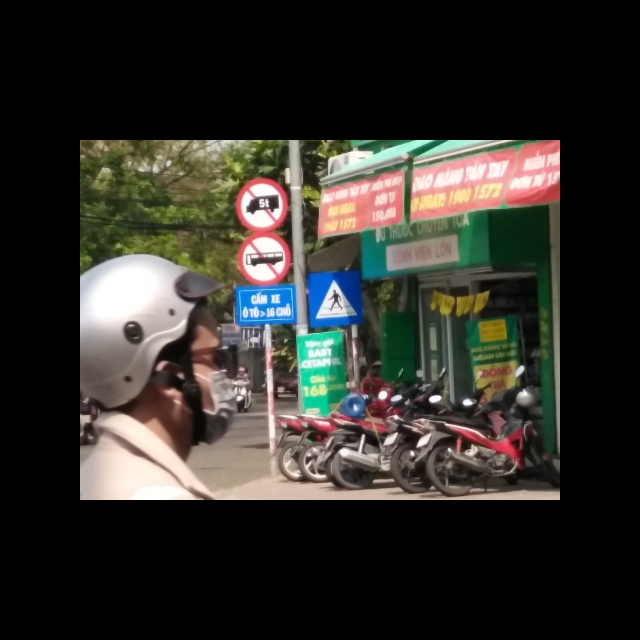Cấm xe tải: (236, 178, 289, 229)
Cấm xe xe khách: (236, 231, 293, 284)
Đường dành cho người đi bộ: (308, 271, 364, 325)
